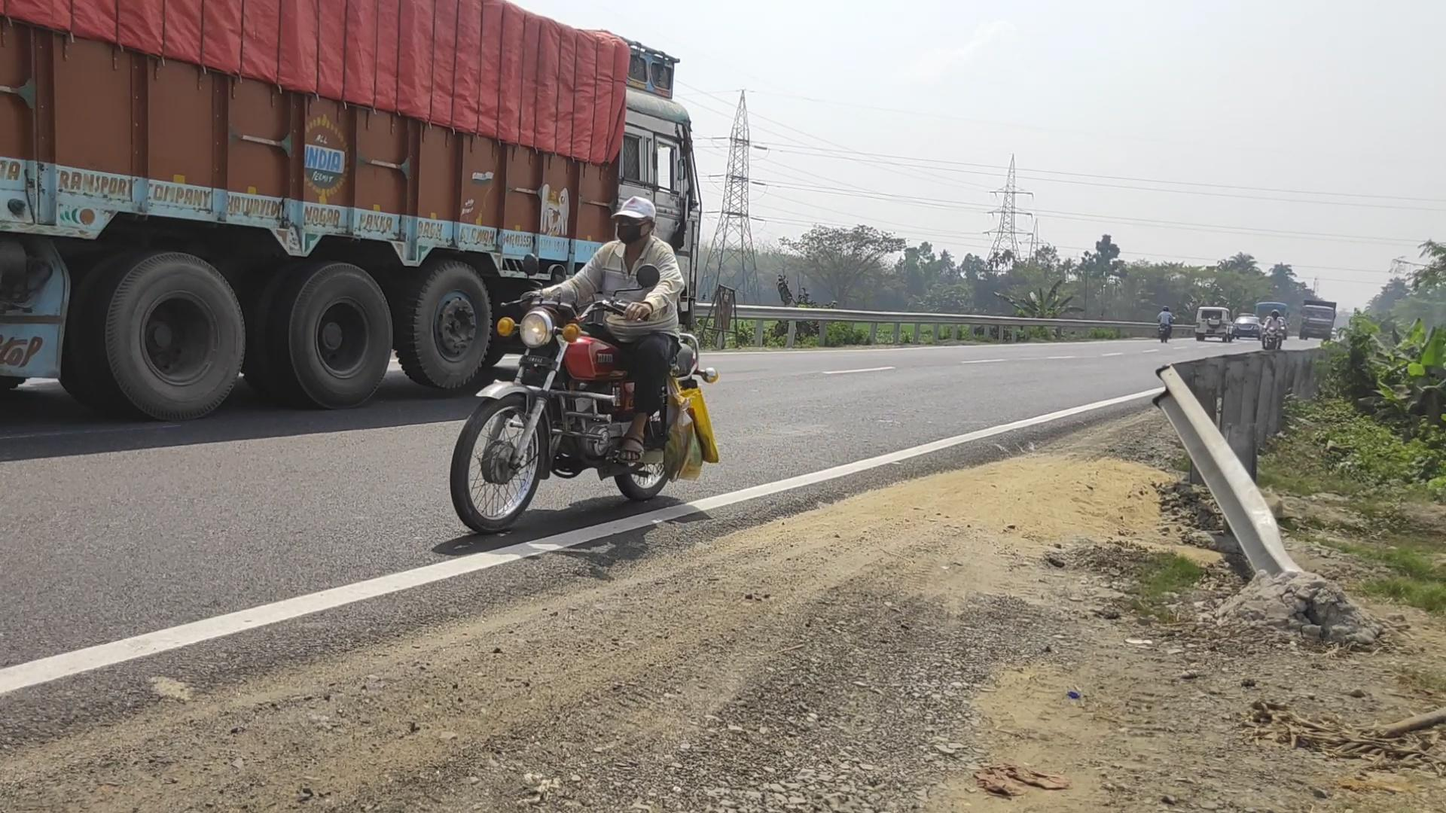Bus: (1255, 302, 1289, 337)
bike: (449, 196, 718, 535), (1261, 309, 1284, 353), (1157, 306, 1176, 343)
car: (1195, 306, 1234, 343), (1233, 315, 1263, 341), (1261, 316, 1288, 341)
truck: (1, 1, 703, 423), (1300, 299, 1337, 343)
